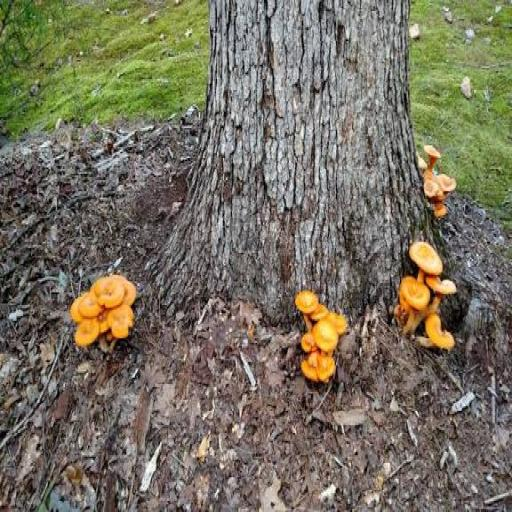Jack O Lantern Mushroom: (398, 272, 430, 338), (87, 270, 125, 309), (426, 271, 455, 314), (410, 239, 439, 278), (422, 312, 449, 352), (106, 305, 135, 340), (294, 290, 317, 333), (74, 285, 103, 318), (315, 352, 342, 385), (311, 322, 339, 353), (76, 314, 99, 348), (436, 170, 457, 201), (302, 351, 319, 385), (421, 139, 438, 173), (434, 205, 449, 224), (424, 178, 438, 197)
